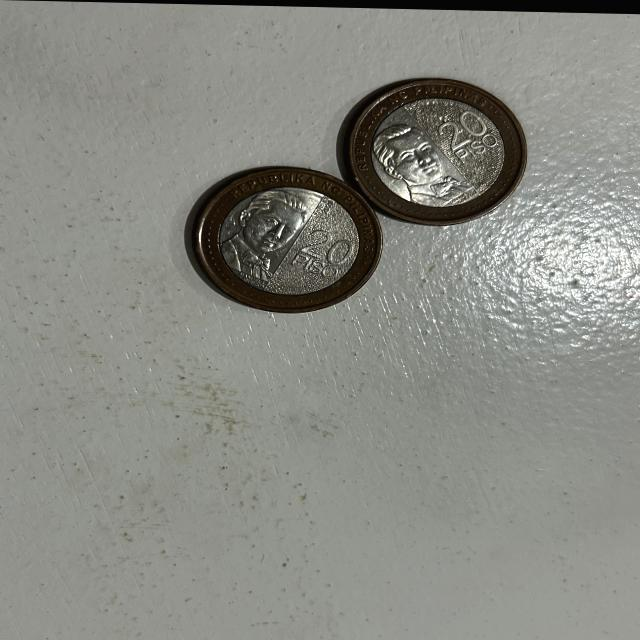20_New_Front: (432, 108, 504, 163), (292, 222, 358, 281)
